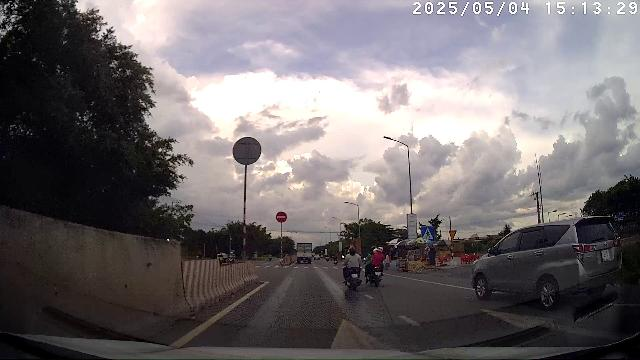102-cam-di-nguoc-chieu: (275, 212, 287, 222)
423a-duong-nguoi-di-bo-sang-ngang-1: (422, 226, 434, 240)
